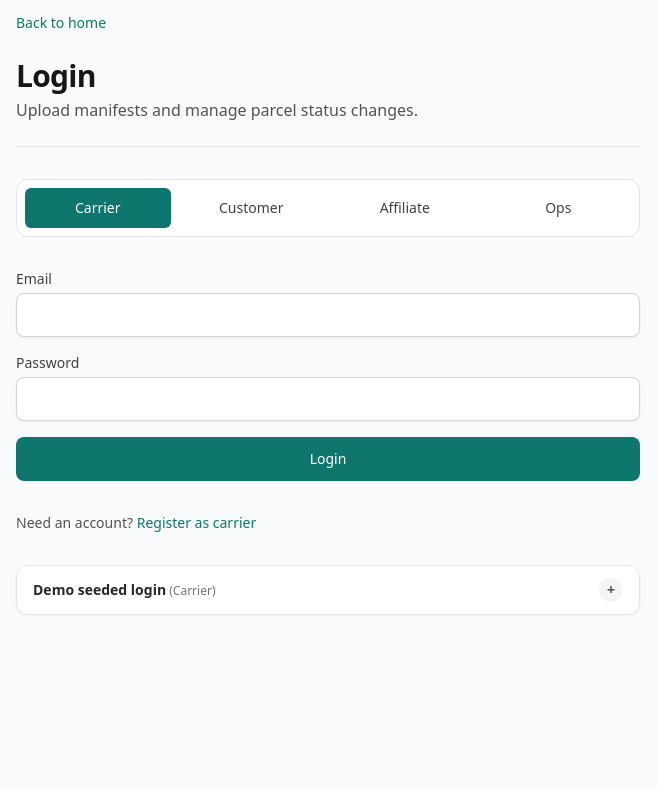
it: LoginForm › clears email, password, and prior login error when switching portal
Click the text "Demo seeded login(Carrier)" at point(124, 590), box x1=33 y1=580 x2=216 y2=600
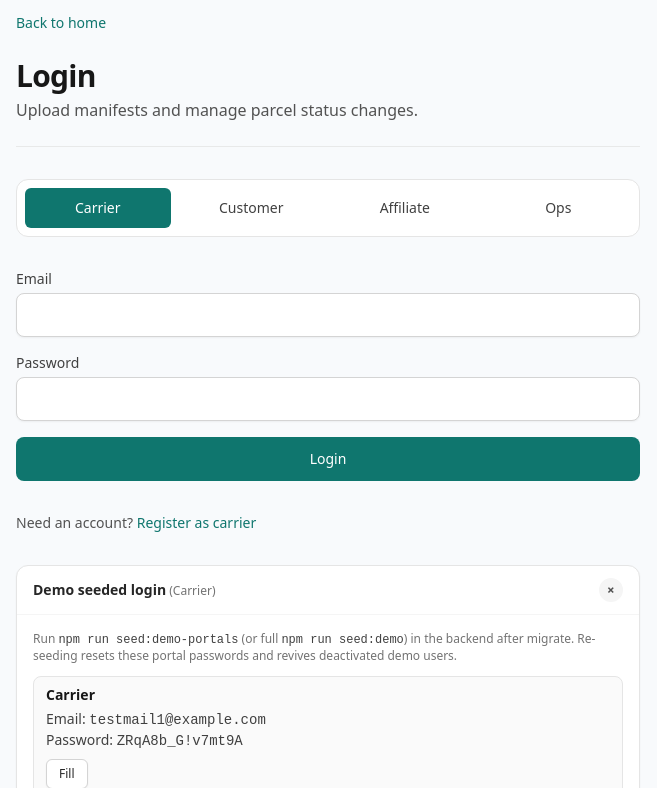
Click the button with aria-label "fill carrier demo credentials" at point(67, 774), box x1=46 y1=759 x2=88 y2=787
(page scrolled)
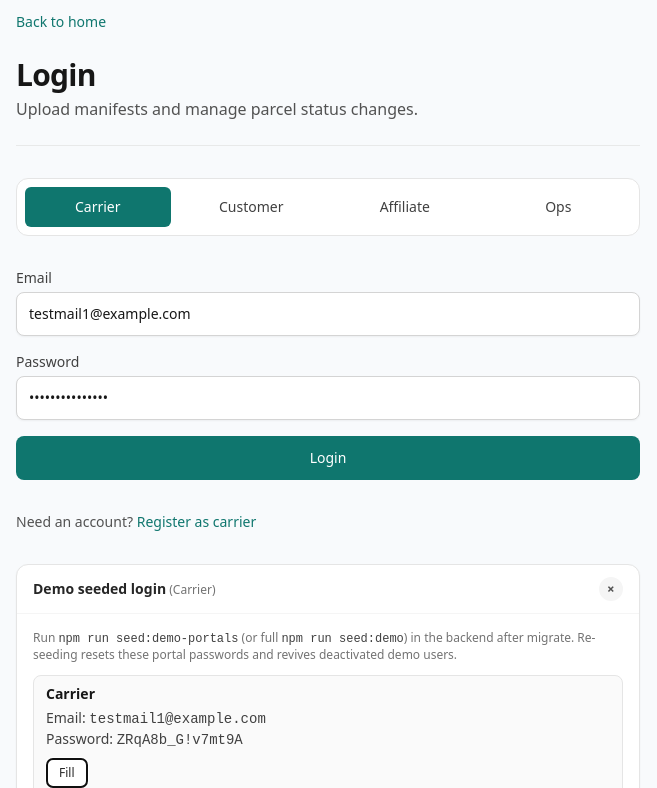
Click the button "Login" at point(328, 458), box x1=16 y1=436 x2=640 y2=480
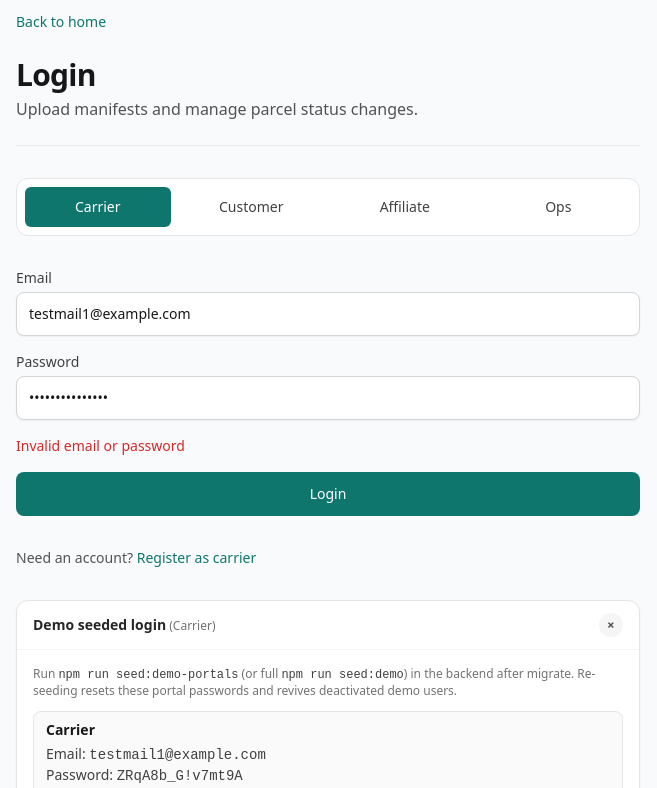
Check: the message reads "Invalid email or password", box x1=16 y1=436 x2=185 y2=455
Click the button "Ops" at point(558, 207), box x1=486 y1=187 x2=631 y2=227
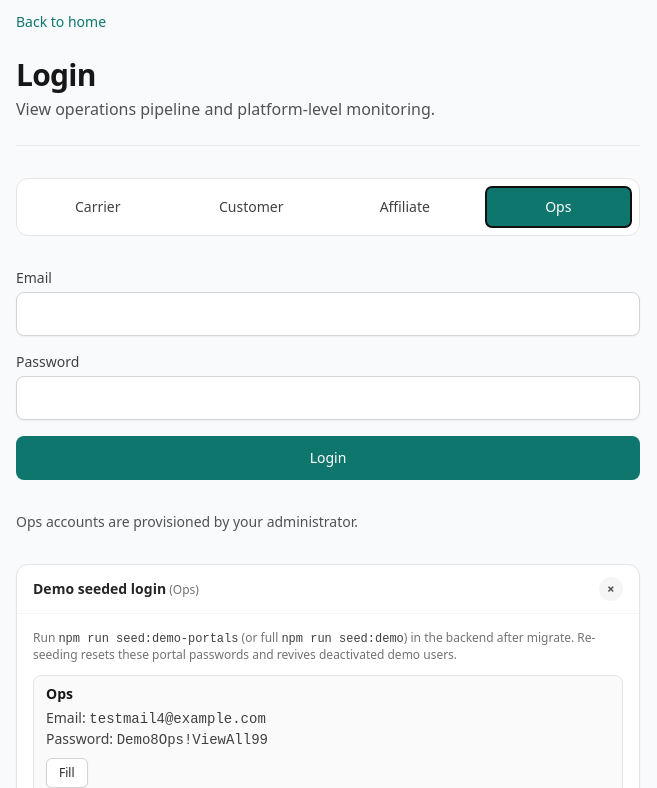
Check: the field labelled "Email" is empty, box x1=16 y1=292 x2=640 y2=336
Check: the password field labelled "Password" is empty, box x1=16 y1=376 x2=640 y2=420
Check: the message "Invalid email or password" is gone
